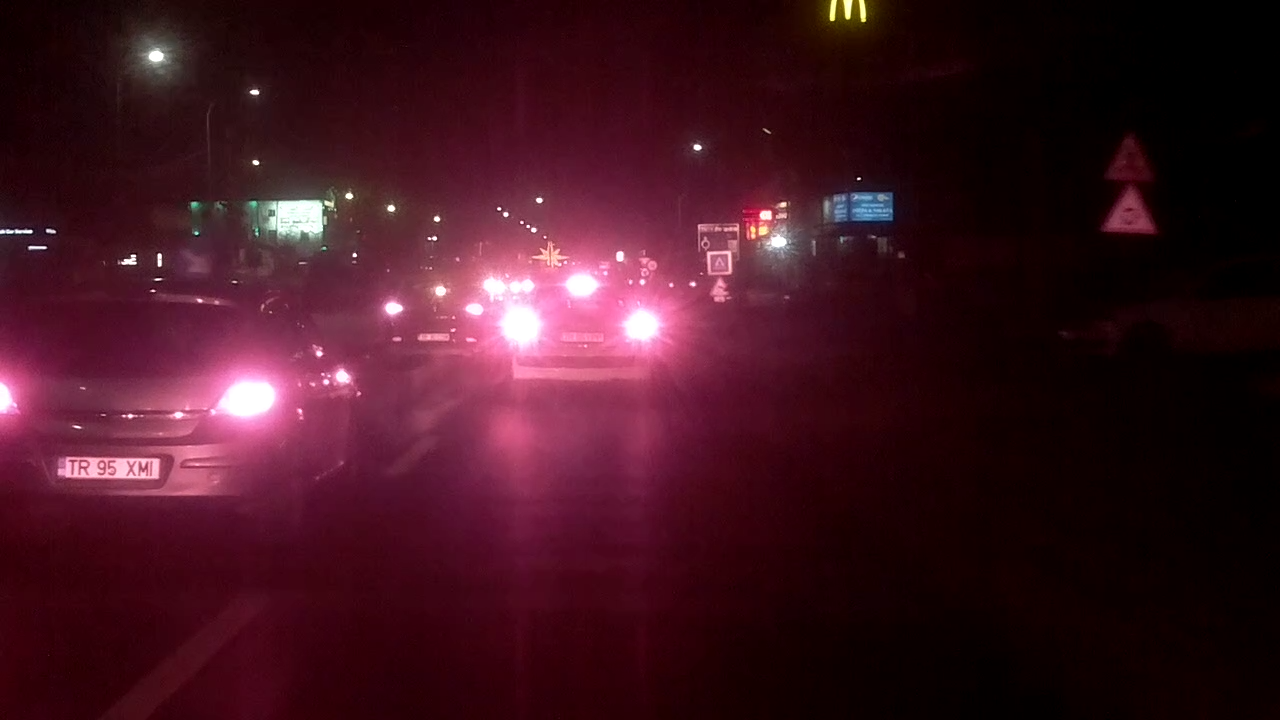license-plate: (50, 452, 164, 483)
